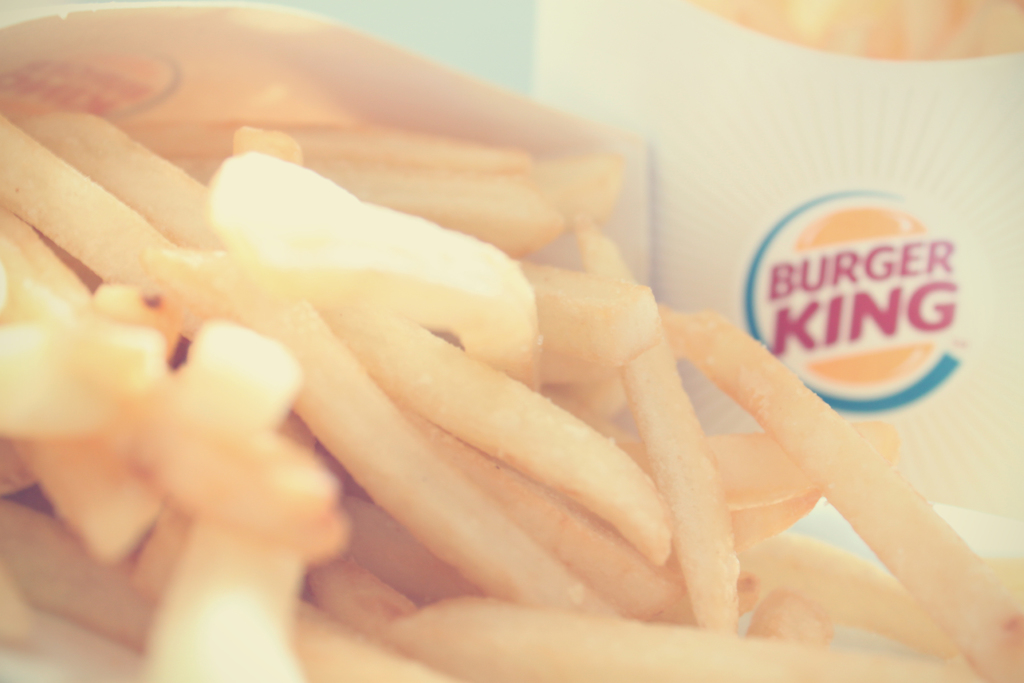French fries: (0, 64, 1023, 682)
